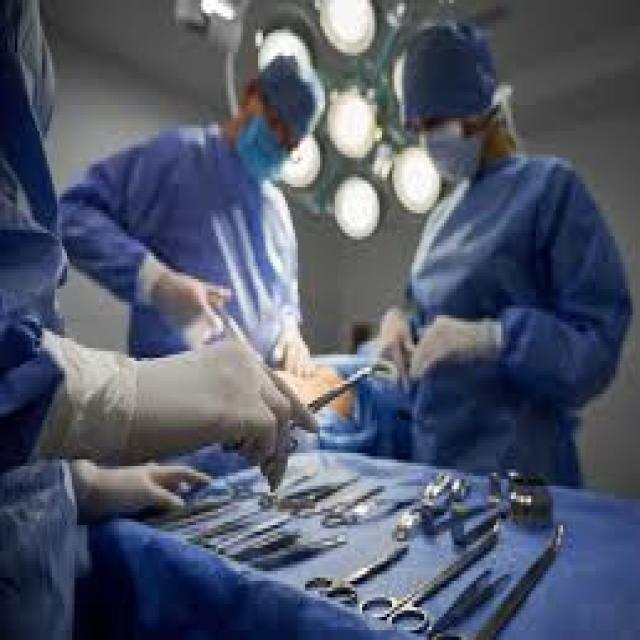tools_table: (147, 384, 596, 640)
